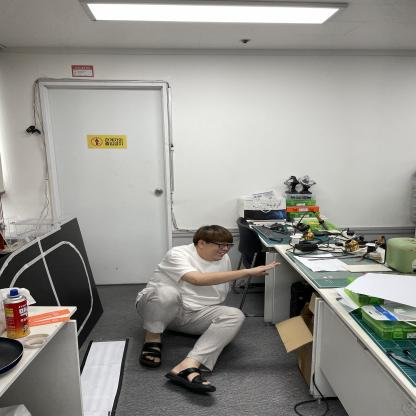fall: (136, 213, 264, 400)
